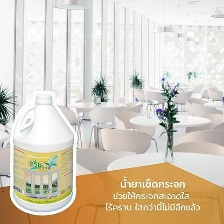cleaning_solution: (8, 91, 75, 215)
